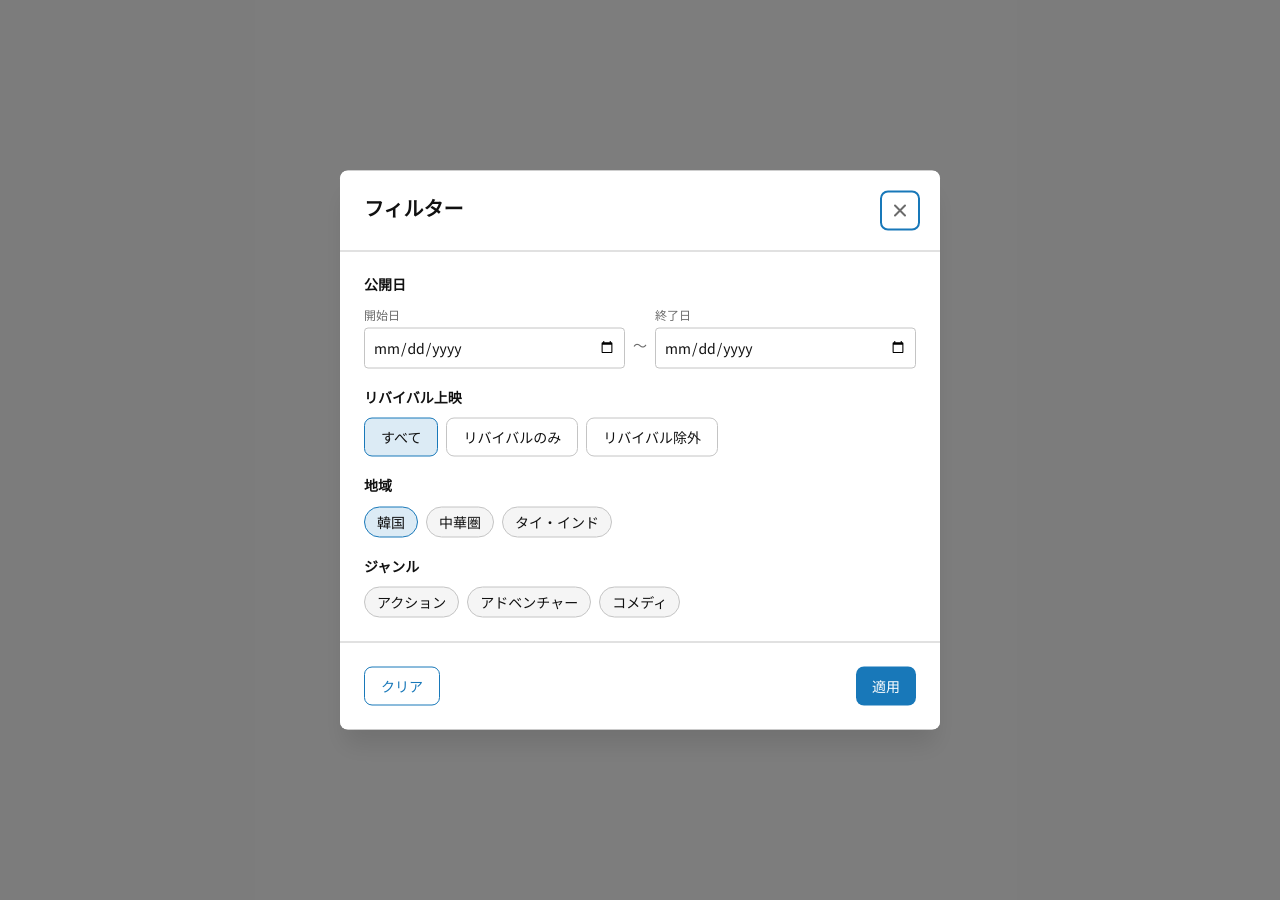
it: FilterModal › 地域セクション › クリアで地域の選択も解除される
The image size is (1280, 900).
Click the button "クリア".
click(402, 686)  # box [364,666,440,706]
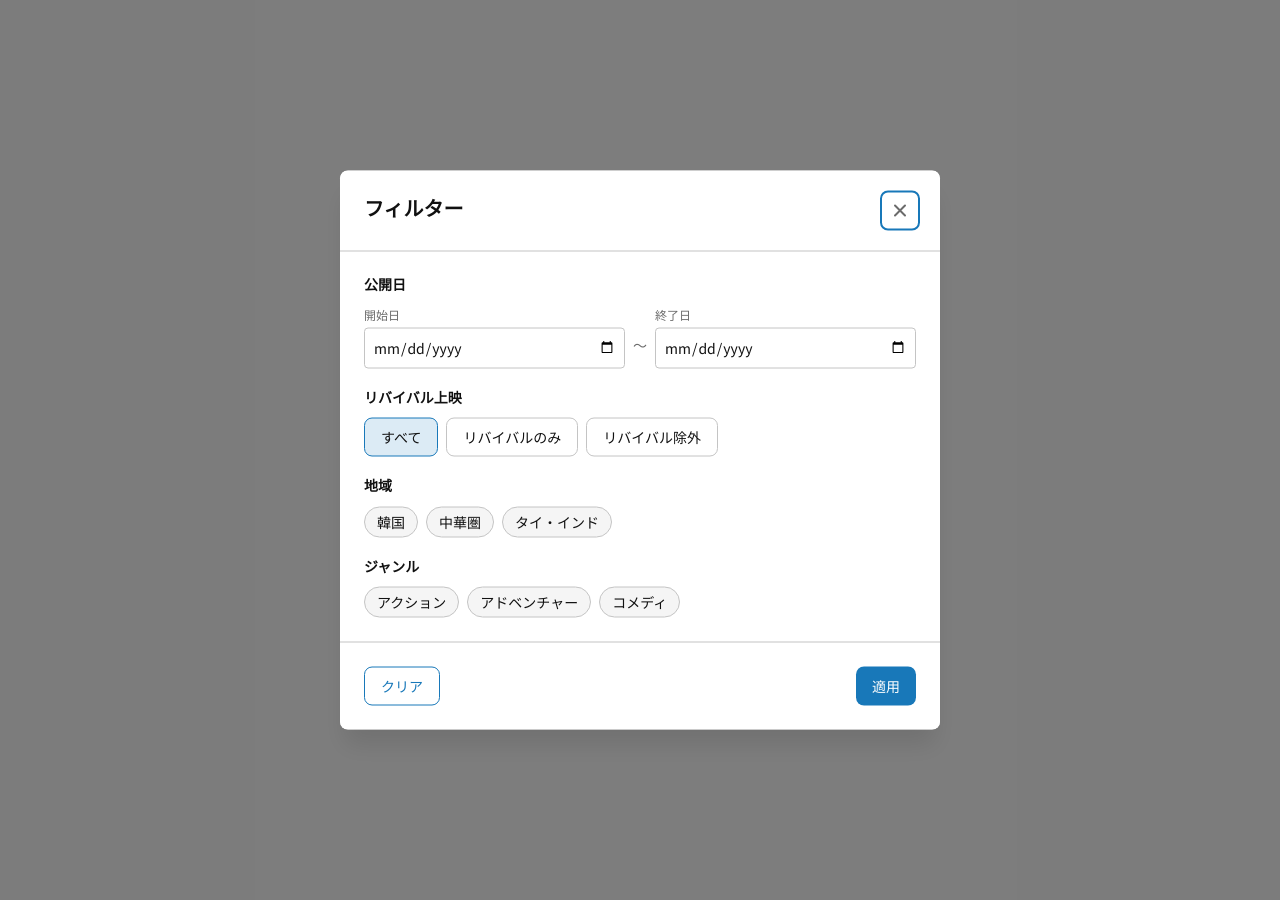
Result: the checkbox labelled "韓国" is not checked at [364,506,418,537]
